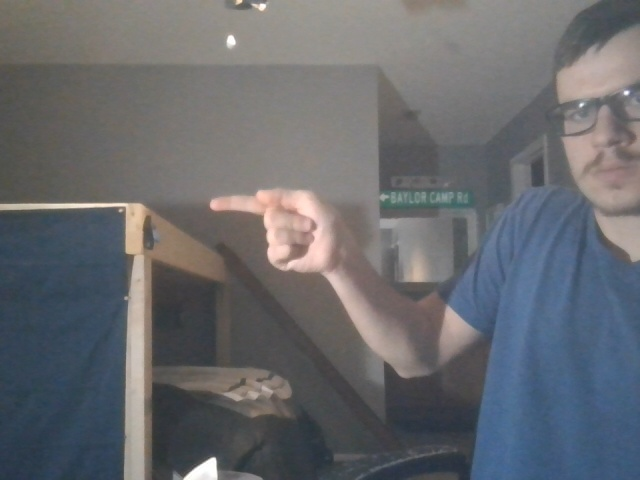G: (208, 184, 350, 279)
